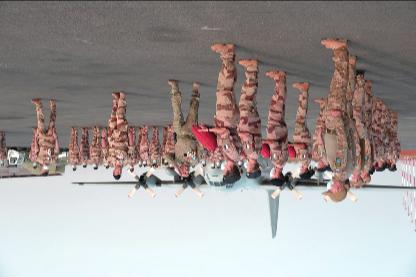Be200: (70, 154, 414, 240)
